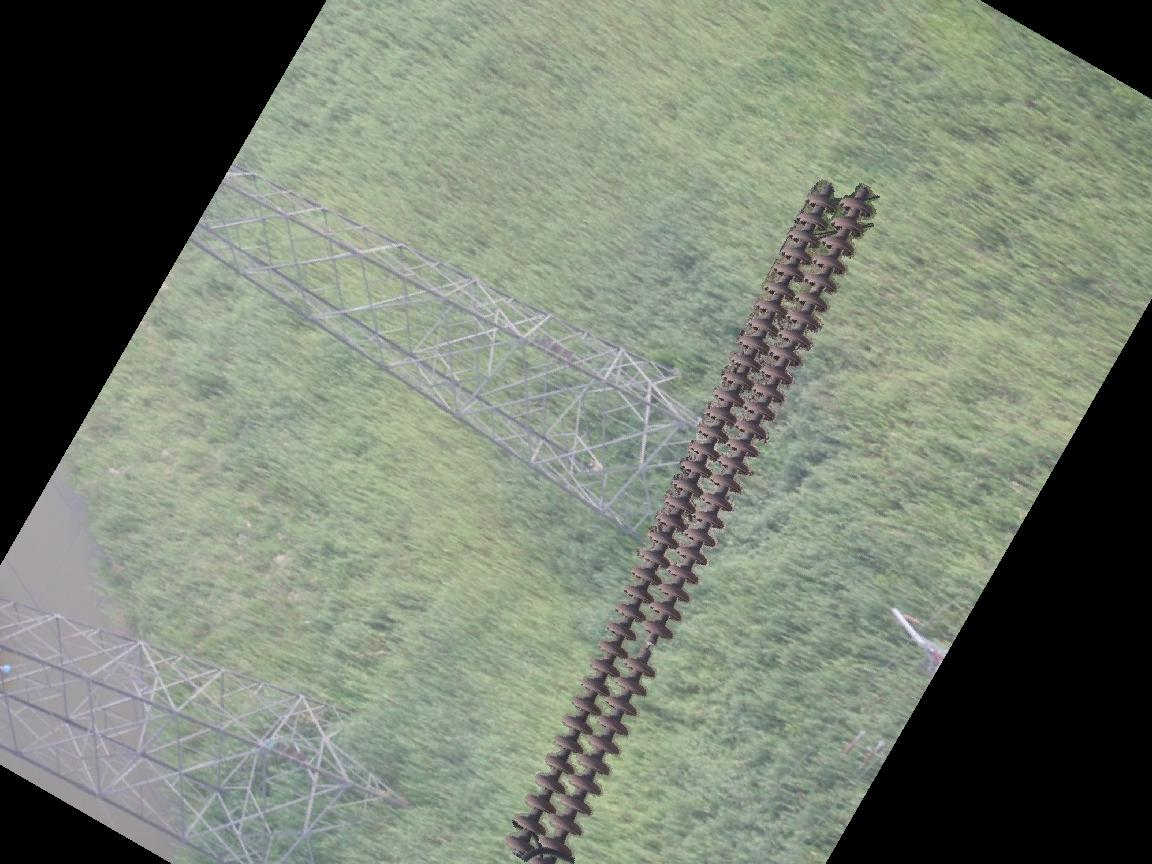insulator: (497, 179, 875, 864)
insulator_stringdrop: (623, 617, 673, 679)
